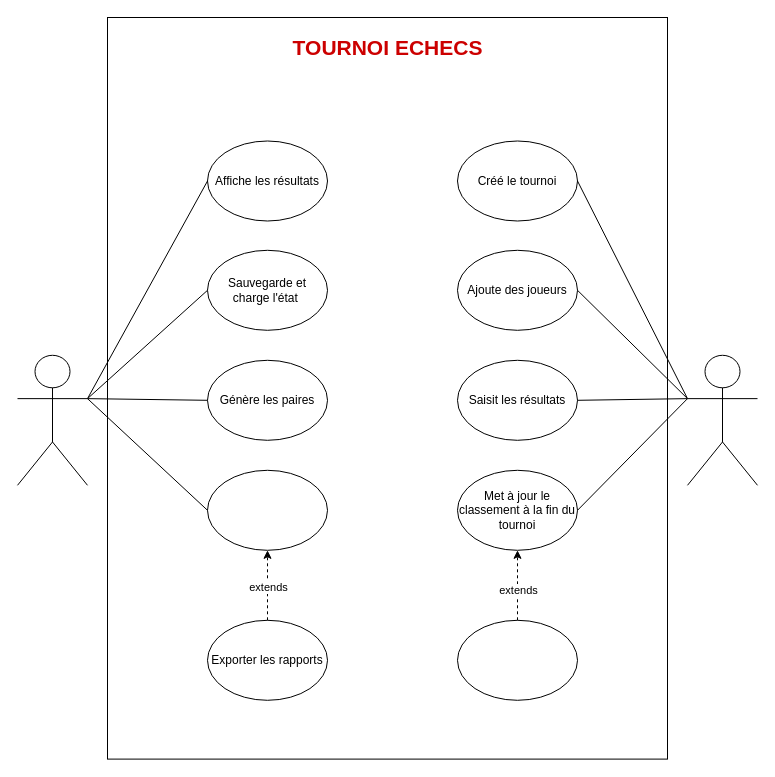
Image size: 775x777. Some labels were removed from this diagram. The centre of each missing label's shape, as x and y in pixels:
"Gestionnaire" belongs at (x=722, y=419).
"Génère des rapports" belongs at (x=267, y=509).
"Mettre à jour à tout moment" belongs at (x=517, y=659).
"Système" belongs at (x=52, y=419).
